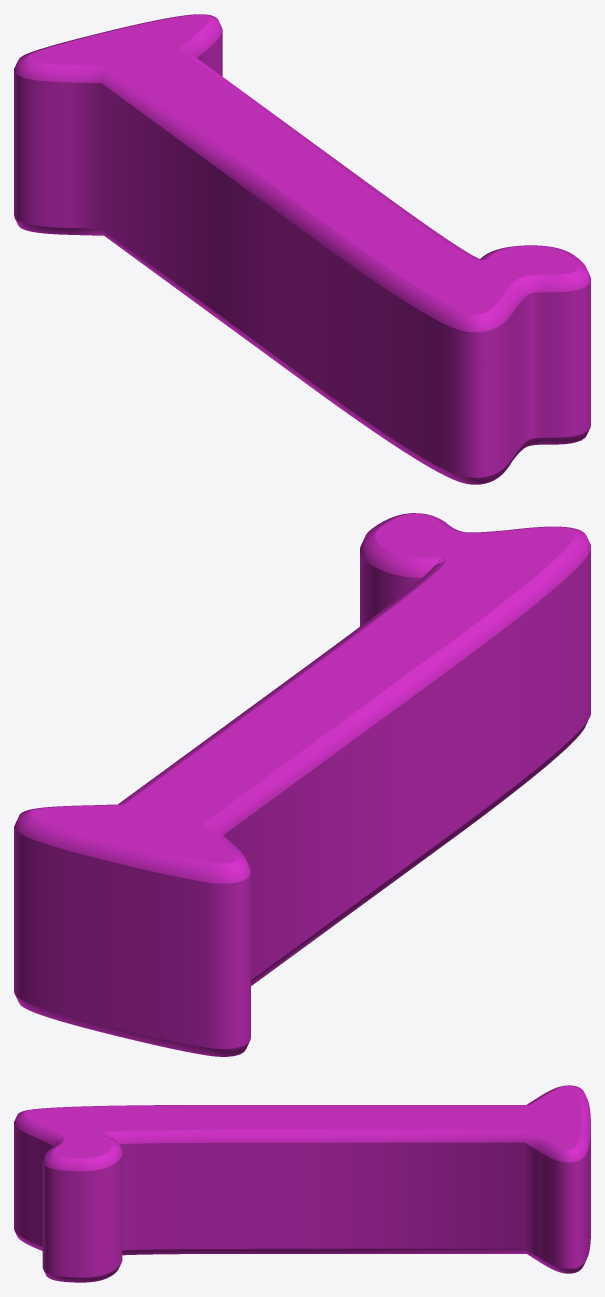
Rendered from Number_1.fbx.
3 views of the same model, one above another, from view 1: azimuth 30°, elevation 25°; view 2: azimuth 150°, elevation 25°; view 3: azimuth 270°, elevation 25° (orthographic). The views are drawn at different scales.
Parts seen in each view (by area): view 1: Number_1; view 2: Number_1; view 3: Number_1.
Boxes of the visible parts, x1,y1,x2,y2 form: Number_1: [14, 14, 590, 484]; Number_1: [14, 513, 590, 1056]; Number_1: [14, 1085, 590, 1282].
Size of the model in its own units: 0.1964 by 0.14 by 0.5913.
